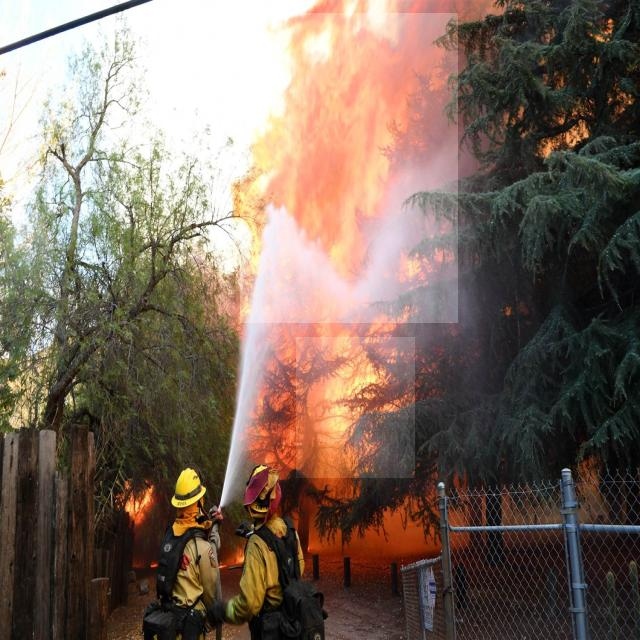Fire: (240, 13, 458, 323), (296, 337, 415, 478), (120, 478, 158, 519)
